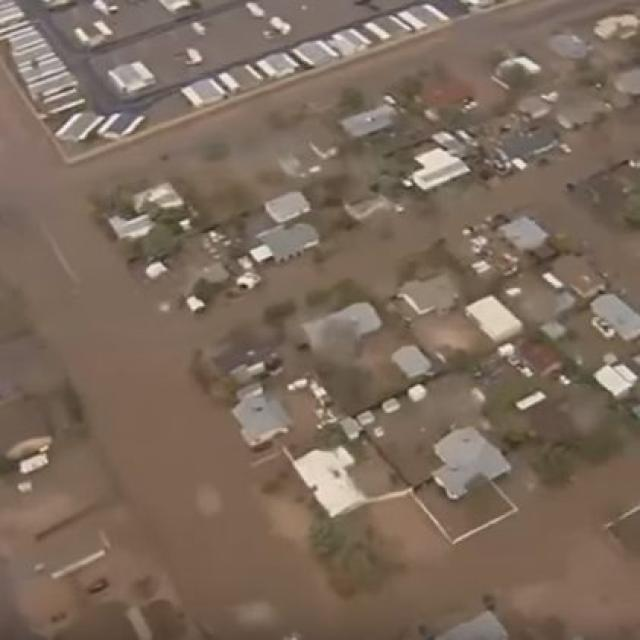flooded_areas: (114, 34, 638, 638)
